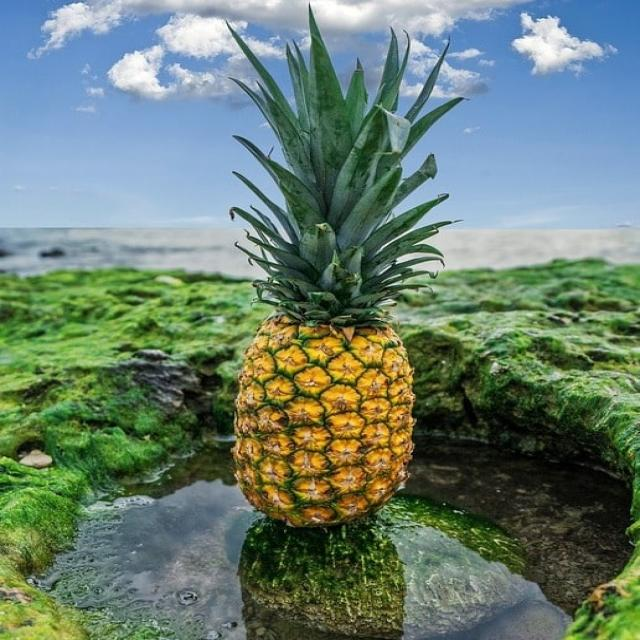pineapple: (233, 12, 419, 530)
